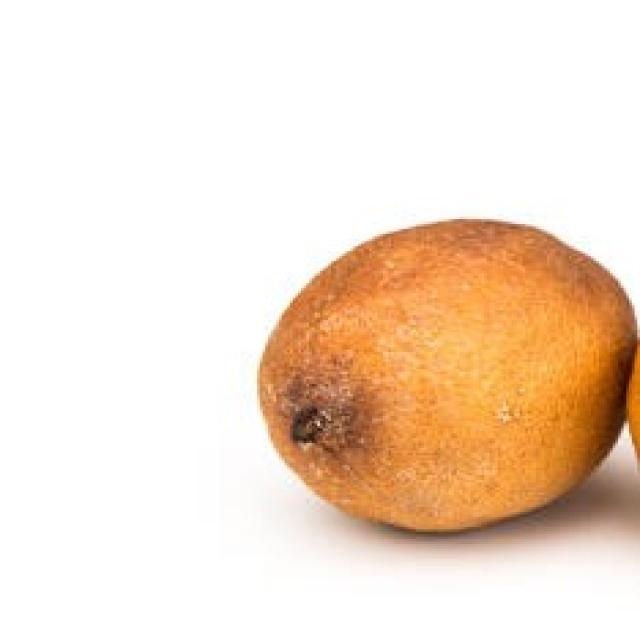overripe: (246, 208, 640, 540)
